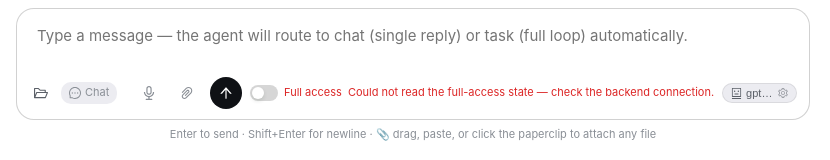
Test case: composer dictation › hands-free voice mode › does not auto-send the phrase when voice mode is off
Click the button with test id "composer-mic" at (148, 93), box [133,77,164,109]
Wait 5100 ms
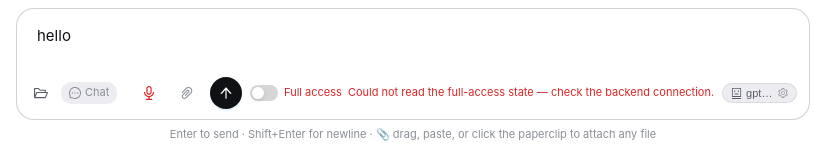
expect the text box holds "hello": met, box [29,19,813,67]
